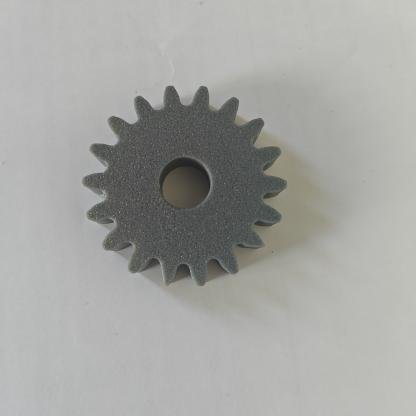gear: (75, 77, 300, 308)
